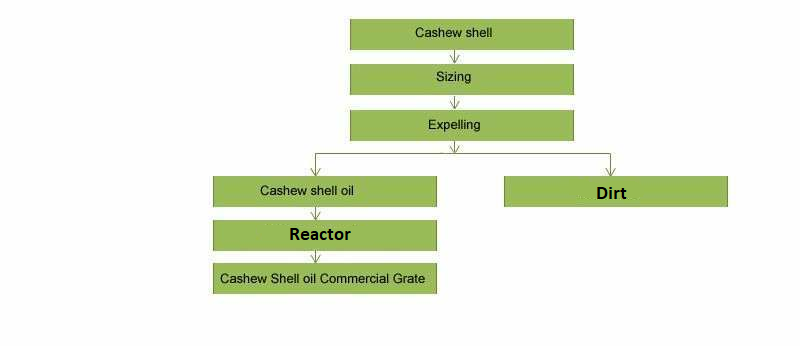arrow: (447, 141, 617, 176), (305, 141, 464, 178), (307, 204, 326, 222), (449, 46, 463, 66), (308, 247, 324, 264), (447, 93, 463, 109), (450, 140, 463, 155)
process: (211, 215, 440, 254), (348, 16, 577, 53), (347, 107, 576, 144), (211, 260, 439, 296), (211, 174, 440, 209), (502, 174, 731, 209), (348, 62, 575, 96)
text: (218, 269, 427, 286), (413, 22, 496, 41), (259, 182, 357, 197), (287, 225, 353, 243), (427, 117, 483, 134), (436, 68, 473, 85), (595, 185, 629, 201)
